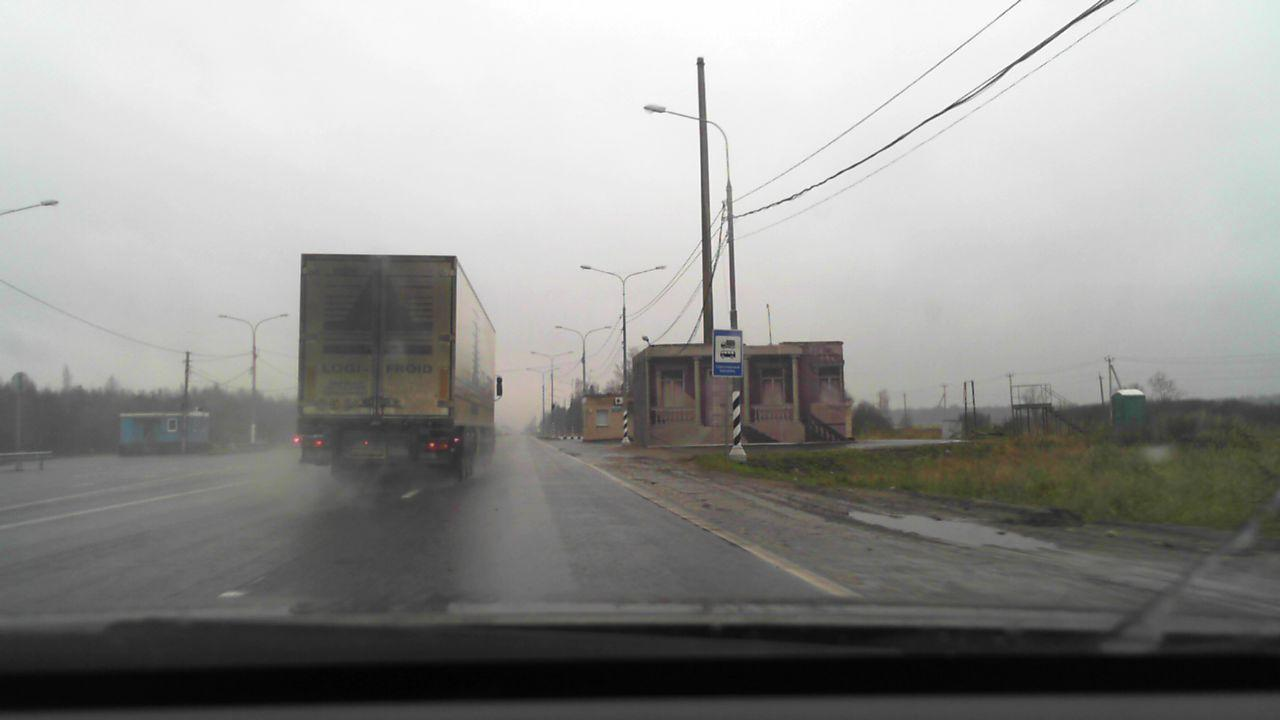7_14_2: (712, 329, 743, 378)
